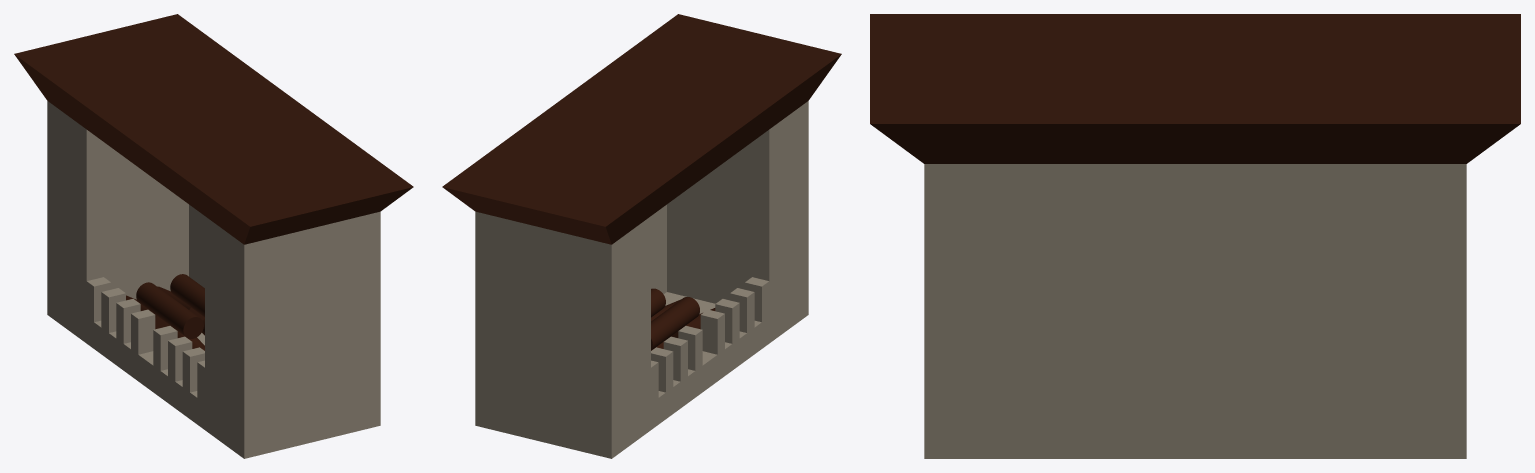
The model's file is Chimney.fbx.
3 renders of one model, left to right at view 1: azimuth 30°, elevation 25°; view 2: azimuth 150°, elevation 25°; view 3: azimuth 270°, elevation 25°, orthographic. The views are drawn at different scales.
Parts seen in each view (by area): view 1: Chimney; view 2: Chimney; view 3: Chimney.
Part boxes in pixels (left/top/right/bottom): Chimney: left=14, top=14, right=413, bottom=458; Chimney: left=442, top=14, right=841, bottom=458; Chimney: left=870, top=14, right=1520, bottom=458.
Bounding box in the file's own units: 960 × 1400 × 2400.
